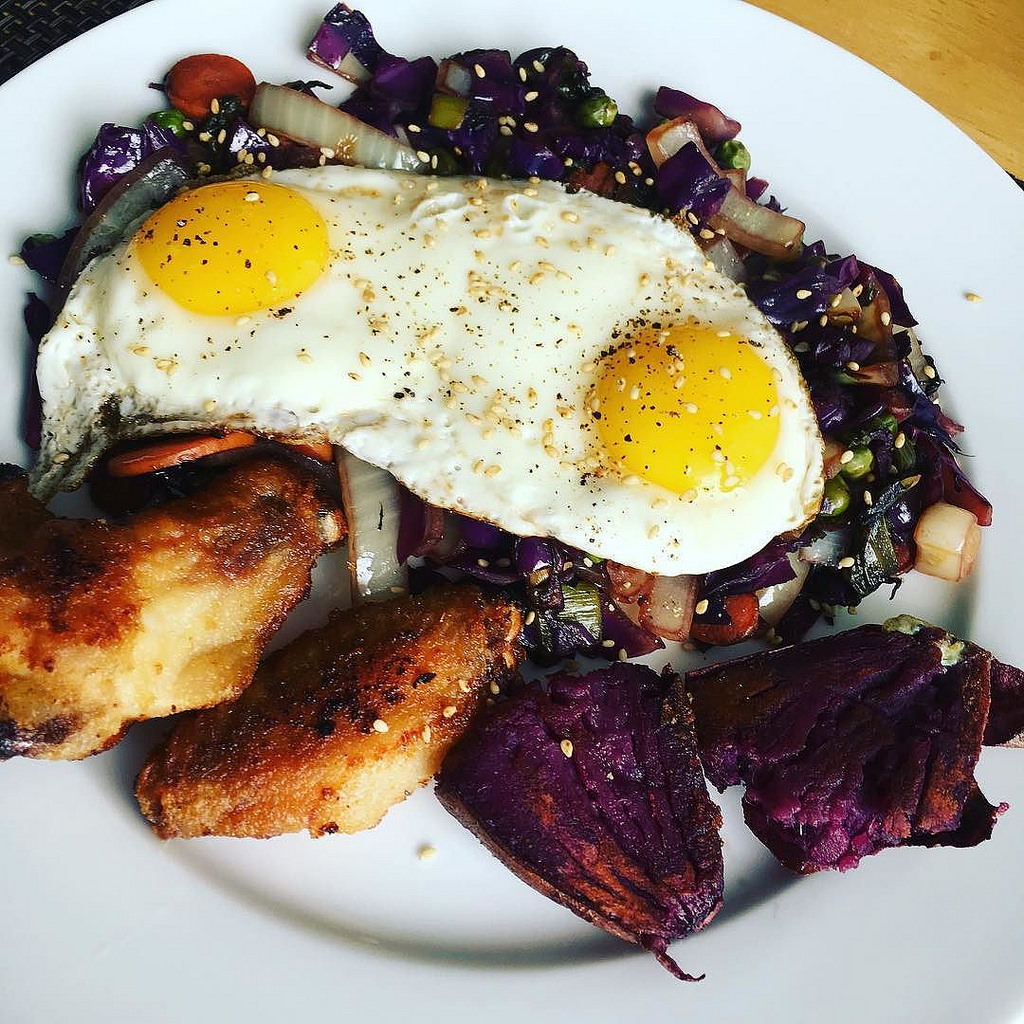fried egg: (137, 201, 840, 563)
